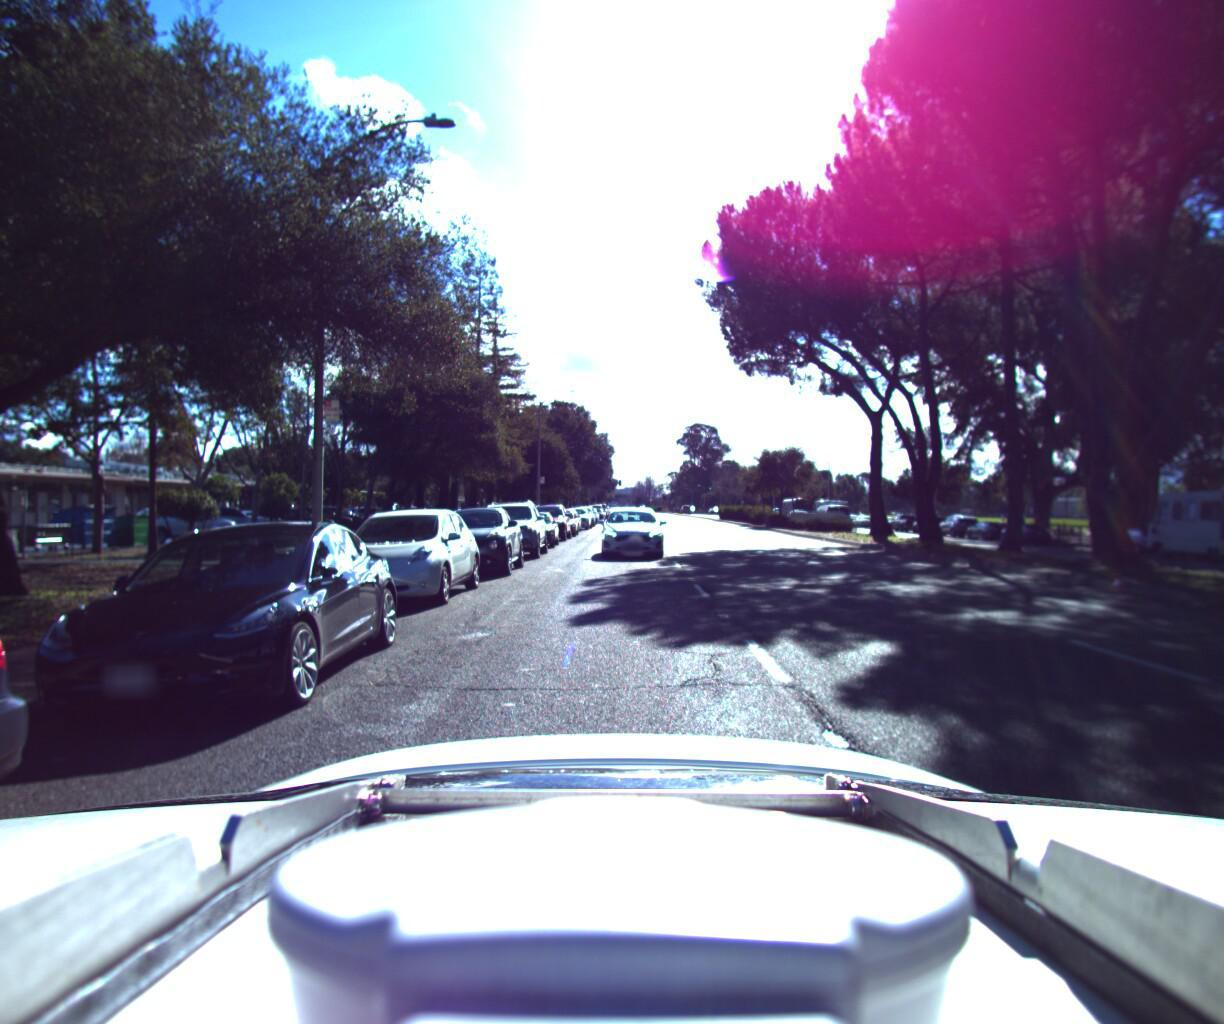car: (0, 513, 414, 749), (319, 501, 487, 613), (425, 500, 529, 577), (469, 492, 551, 557), (598, 501, 667, 556), (1098, 518, 1185, 551), (505, 504, 562, 545), (523, 496, 574, 537), (995, 513, 1055, 539), (540, 501, 580, 532), (934, 506, 984, 531), (806, 495, 850, 521), (559, 500, 593, 524)
other_vehicle: (1138, 470, 1224, 567)
